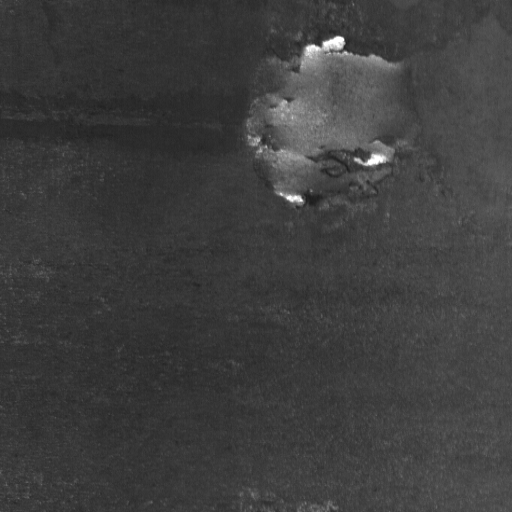qiaopi: (243, 33, 423, 209)
